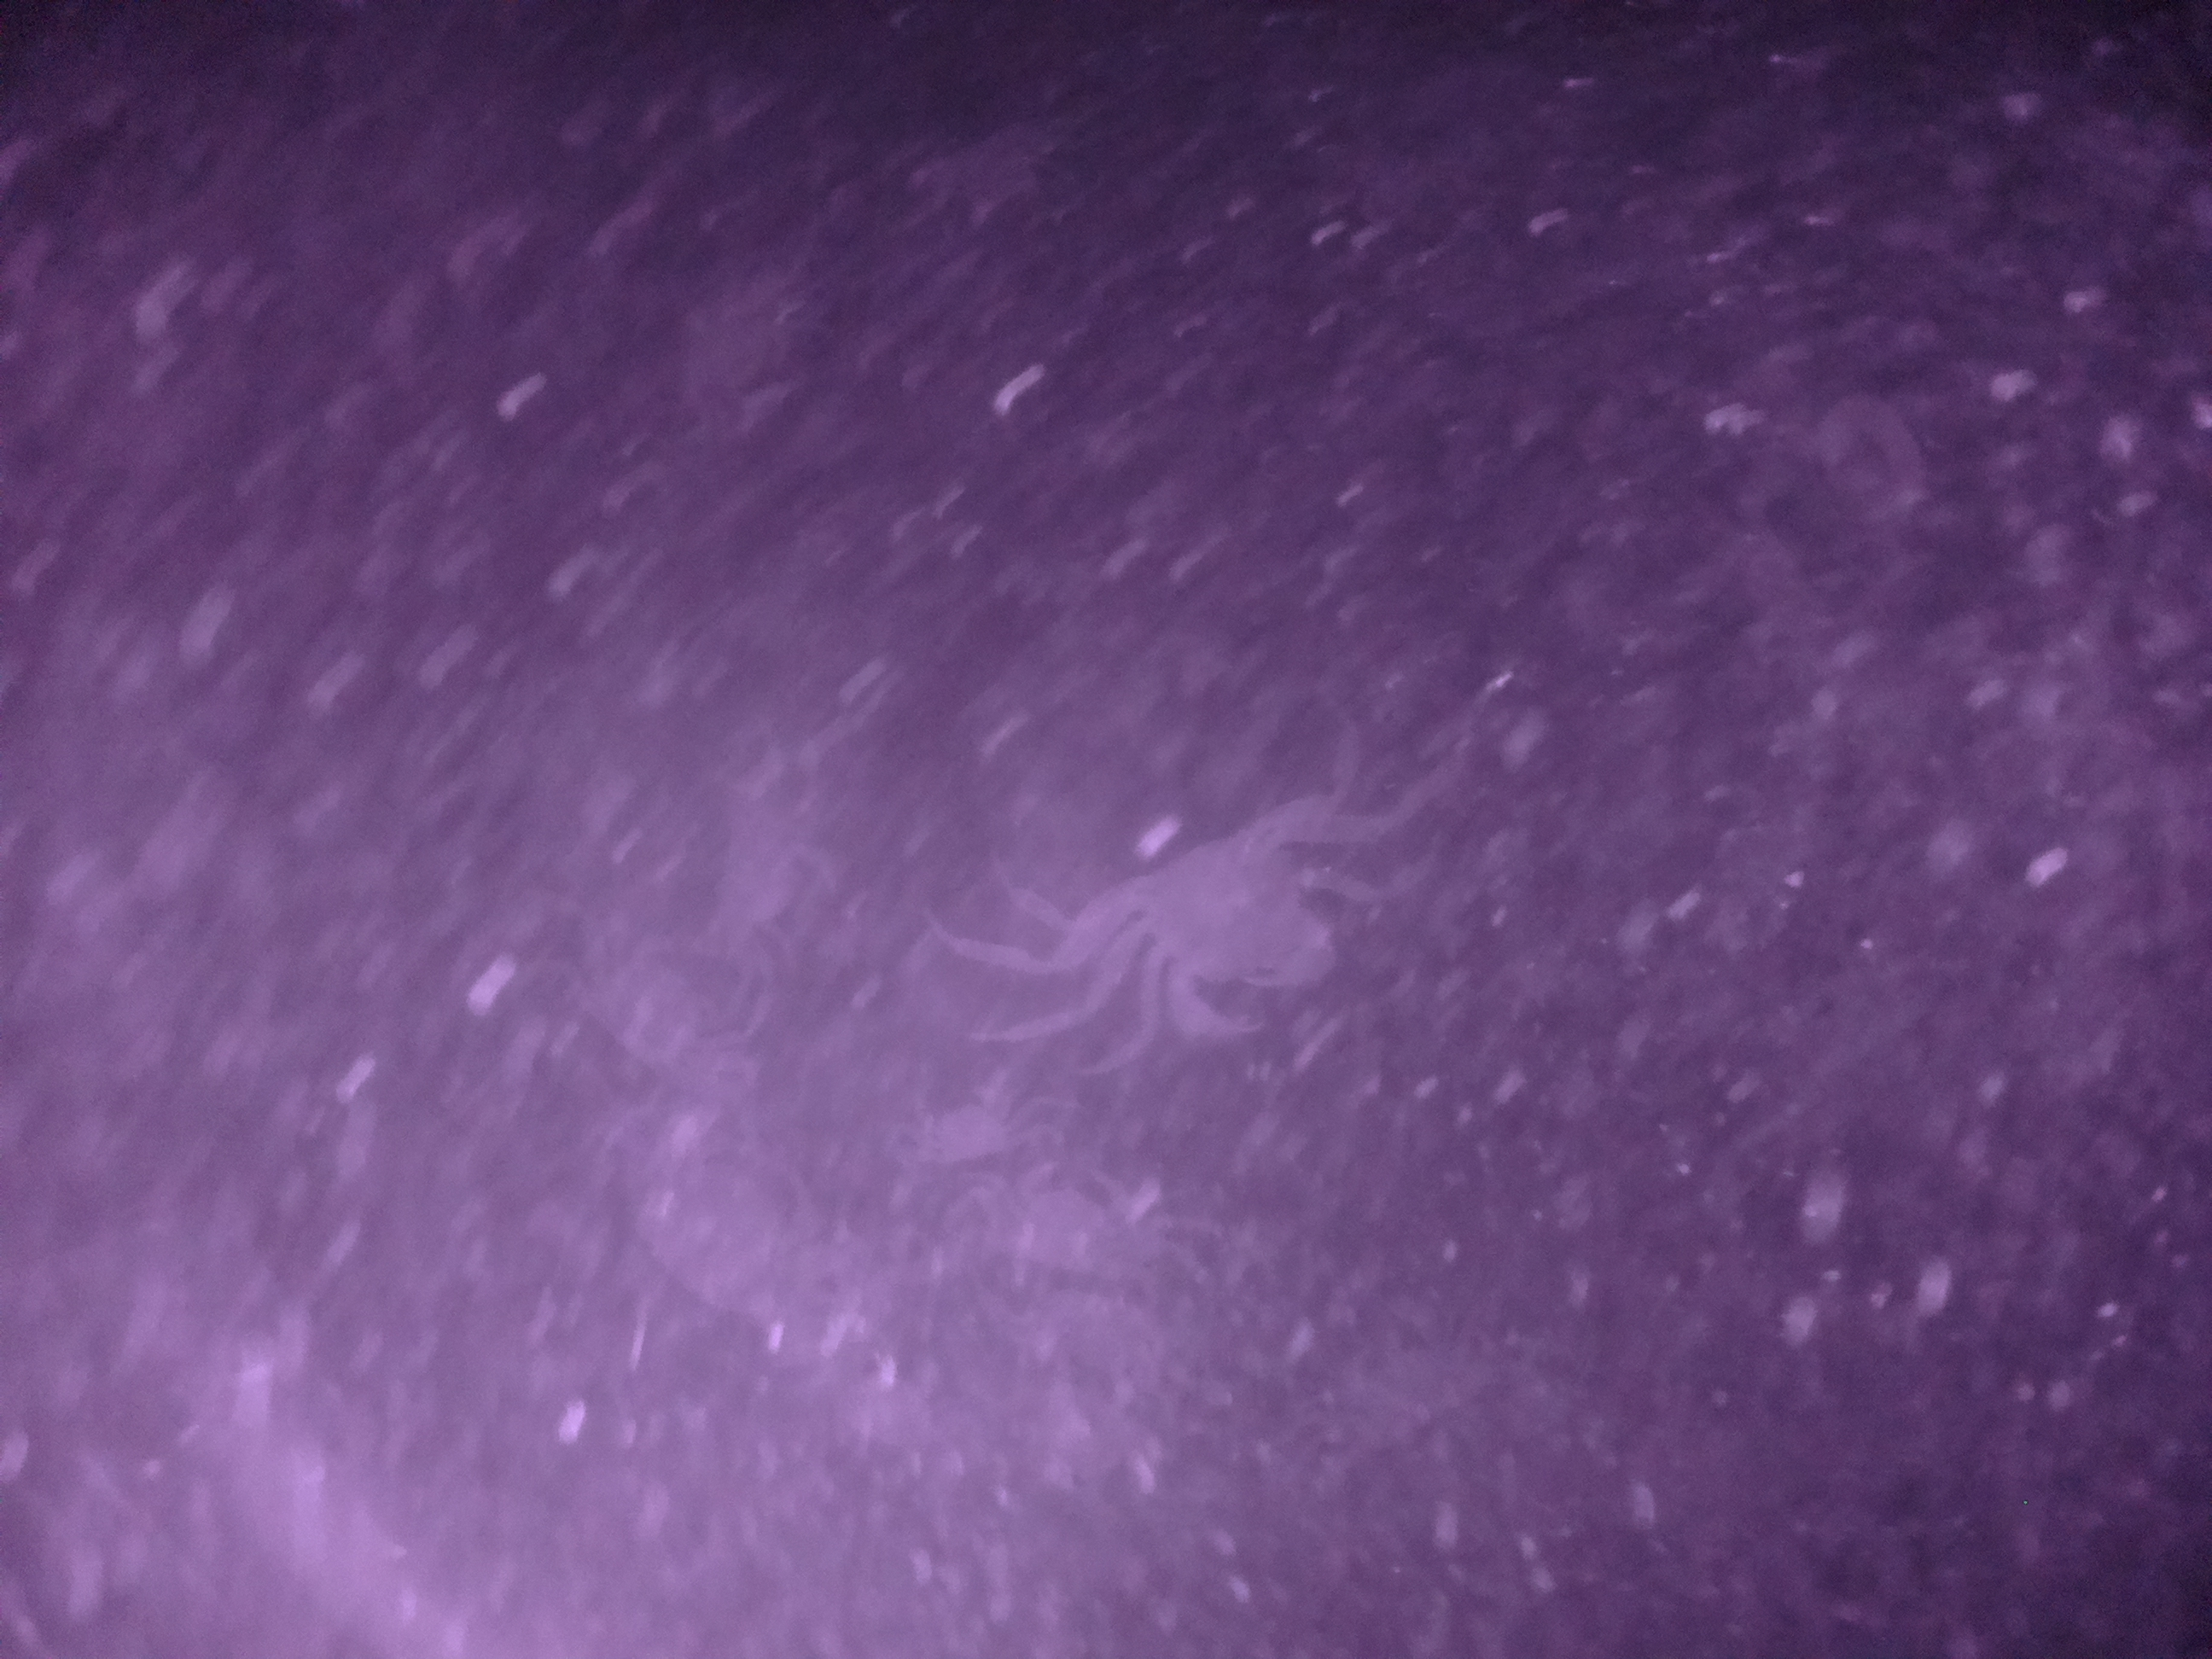Crab: (1085, 788, 1372, 1053)
